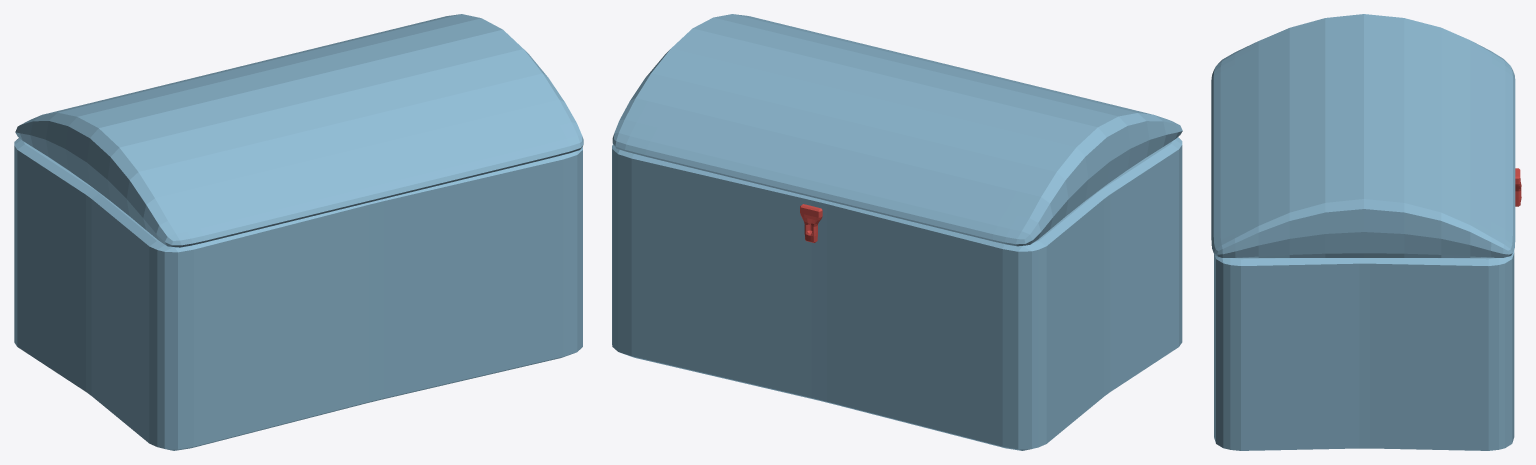
File: Chest.fbx
3 views of the same model, side by side, from view 1: azimuth 30°, elevation 25°; view 2: azimuth 150°, elevation 25°; view 3: azimuth 270°, elevation 25° (orthographic). The views are drawn at different scales.
Parts seen in each view (by area): view 1: Chest, door; view 2: Chest, door, lock; view 3: door, Chest.
Part boxes in pixels (x1,y1,x2,y2): Chest: [14, 138, 582, 450]; door: [15, 14, 583, 247]; Chest: [612, 137, 1182, 450]; door: [612, 14, 1182, 246]; lock: [800, 204, 822, 242]; door: [1211, 14, 1515, 257]; Chest: [1214, 250, 1514, 450].
Size of the model in its own units: 130 by 77.01 by 86.41.
